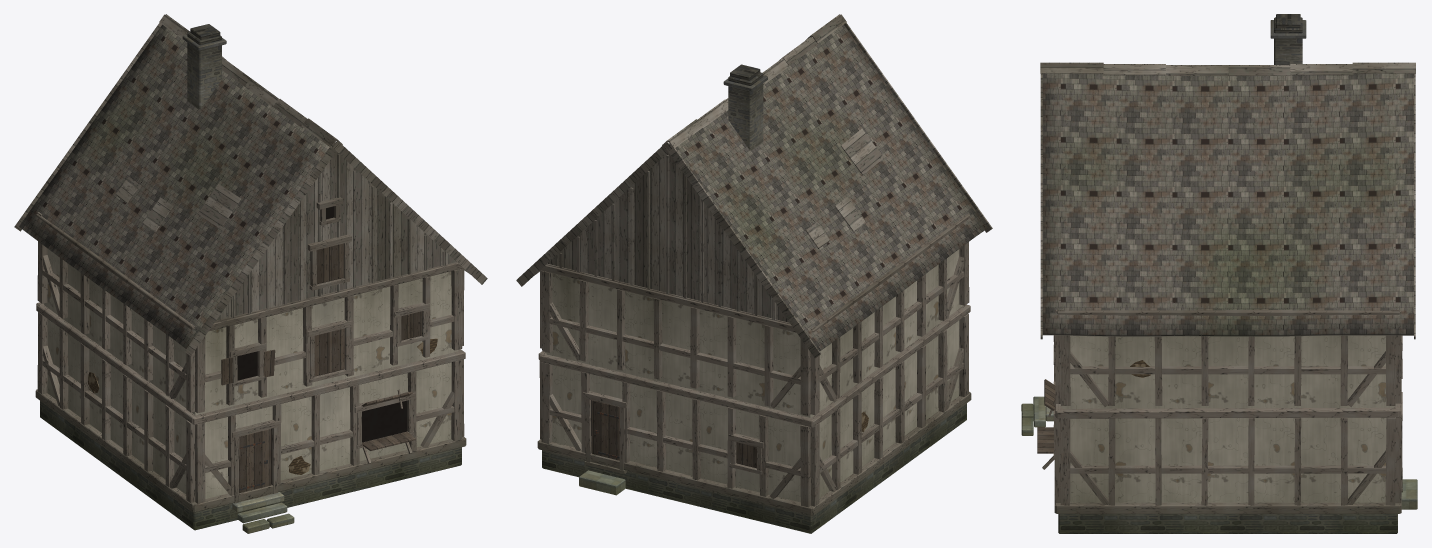
Rendered from merchant_timber.glb.
3 views of the same model, side by side, from view 1: azimuth 30°, elevation 25°; view 2: azimuth 150°, elevation 25°; view 3: azimuth 270°, elevation 25° (orthographic). The views are drawn at different scales.
Visible parts, largest first — view 1: MerchantTimberWoodShingle, MerchantTimberOakWeathered, MerchantTimberLimewash, MerchantTimberBoards, MerchantTimberLimestonePlinth, MerchantTimberOakPlank, MerchantTimberLimestoneRubble, MerchantTimberRecess, MerchantTimberLimestoneDressed, MerchantTimberWattle; view 2: MerchantTimberWoodShingle, MerchantTimberOakWeathered, MerchantTimberLimewash, MerchantTimberBoards, MerchantTimberLimestonePlinth, MerchantTimberLimestoneRubble, MerchantTimberOakPlank, MerchantTimberLimestoneDressed; view 3: MerchantTimberWoodShingle, MerchantTimberLimewash, MerchantTimberOakWeathered, MerchantTimberLimestonePlinth, MerchantTimberBoards, MerchantTimberLimestoneDressed, MerchantTimberLimestoneRubble, MerchantTimberOakPlank.
Part boxes in pixels (x1=…): MerchantTimberWoodShingle: x1=19, y1=24, x2=469, y2=348; MerchantTimberOakWeathered: x1=35, y1=197, x2=466, y2=512; MerchantTimberLimewash: x1=43, y1=249, x2=458, y2=498; MerchantTimberBoards: x1=14, y1=14, x2=487, y2=355; MerchantTimberLimestonePlinth: x1=40, y1=401, x2=461, y2=530; MerchantTimberOakPlank: x1=221, y1=243, x2=421, y2=493; MerchantTimberLimestoneRubble: x1=187, y1=24, x2=221, y2=109; MerchantTimberRecess: x1=237, y1=206, x2=420, y2=484; MerchantTimberLimestoneDressed: x1=182, y1=34, x2=294, y2=533; MerchantTimberWattle: x1=88, y1=338, x2=437, y2=474; MerchantTimberWoodShingle: x1=534, y1=24, x2=987, y2=350; MerchantTimberOakWeathered: x1=537, y1=213, x2=971, y2=515; MerchantTimberLimewash: x1=546, y1=249, x2=962, y2=502; MerchantTimberBoards: x1=516, y1=14, x2=992, y2=358; MerchantTimberLimestonePlinth: x1=542, y1=403, x2=966, y2=533; MerchantTimberLimestoneRubble: x1=728, y1=64, x2=763, y2=150; MerchantTimberOakPlank: x1=592, y1=400, x2=756, y2=467; MerchantTimberLimestoneDressed: x1=579, y1=75, x2=767, y2=495; MerchantTimberWoodShingle: x1=1042, y1=73, x2=1413, y2=336; MerchantTimberLimewash: x1=1062, y1=335, x2=1394, y2=502; MerchantTimberOakWeathered: x1=1042, y1=309, x2=1402, y2=513; MerchantTimberLimestonePlinth: x1=1058, y1=514, x2=1397, y2=533; MerchantTimberBoards: x1=1040, y1=62, x2=1415, y2=339; MerchantTimberLimestoneDressed: x1=1021, y1=20, x2=1417, y2=509; MerchantTimberLimestoneRubble: x1=1274, y1=14, x2=1302, y2=64; MerchantTimberOakPlank: x1=1037, y1=379, x2=1055, y2=453.
Size of the model in its own units: 9.61 by 12.03 by 9.94.
11 materials, 11 textured.
